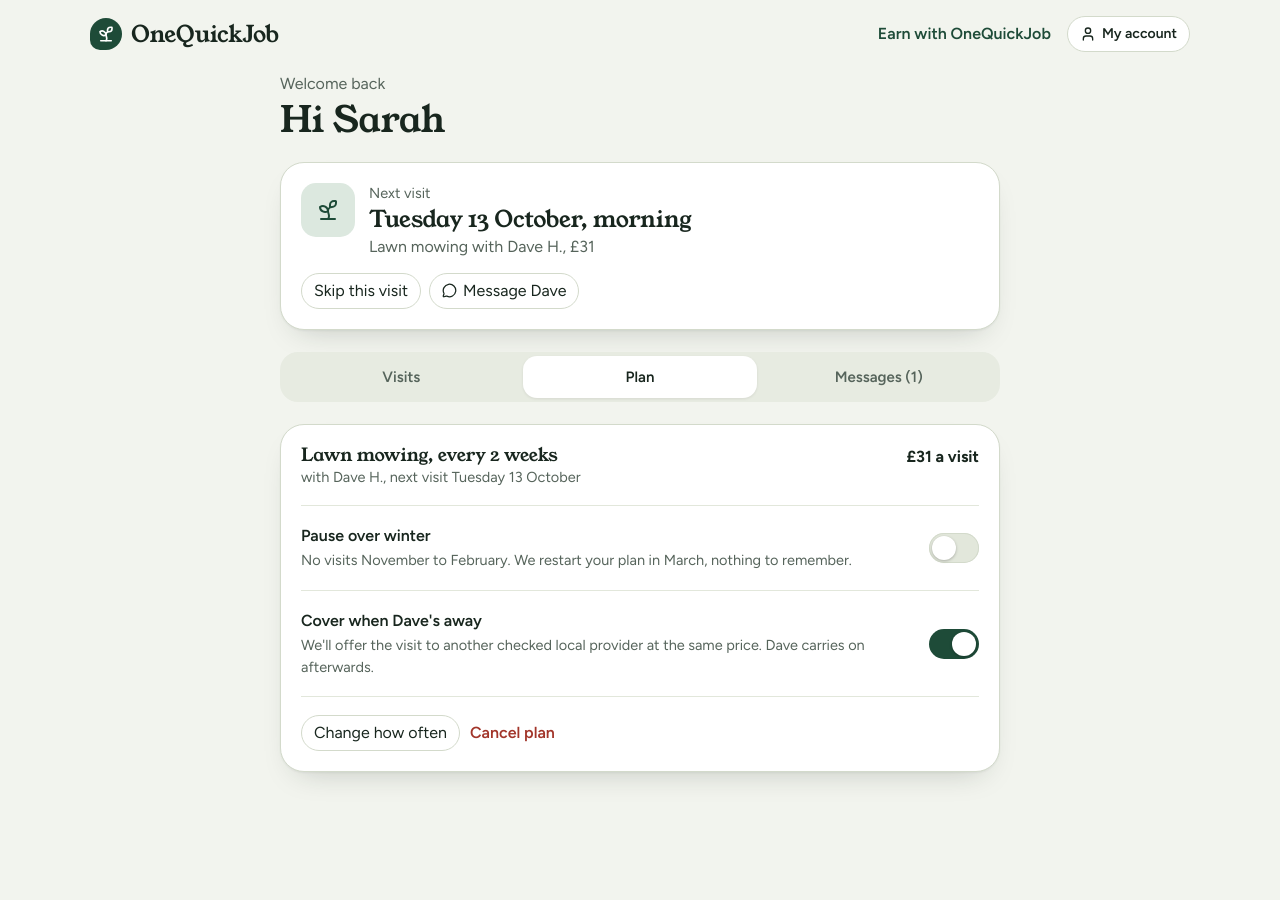
Test case: my account › shows the new price if it changed before asking (A10)
The width and height of the screenshot is (1280, 900).
Click the button "Change how often". click: (380, 734)
box: [301,716,460,752]
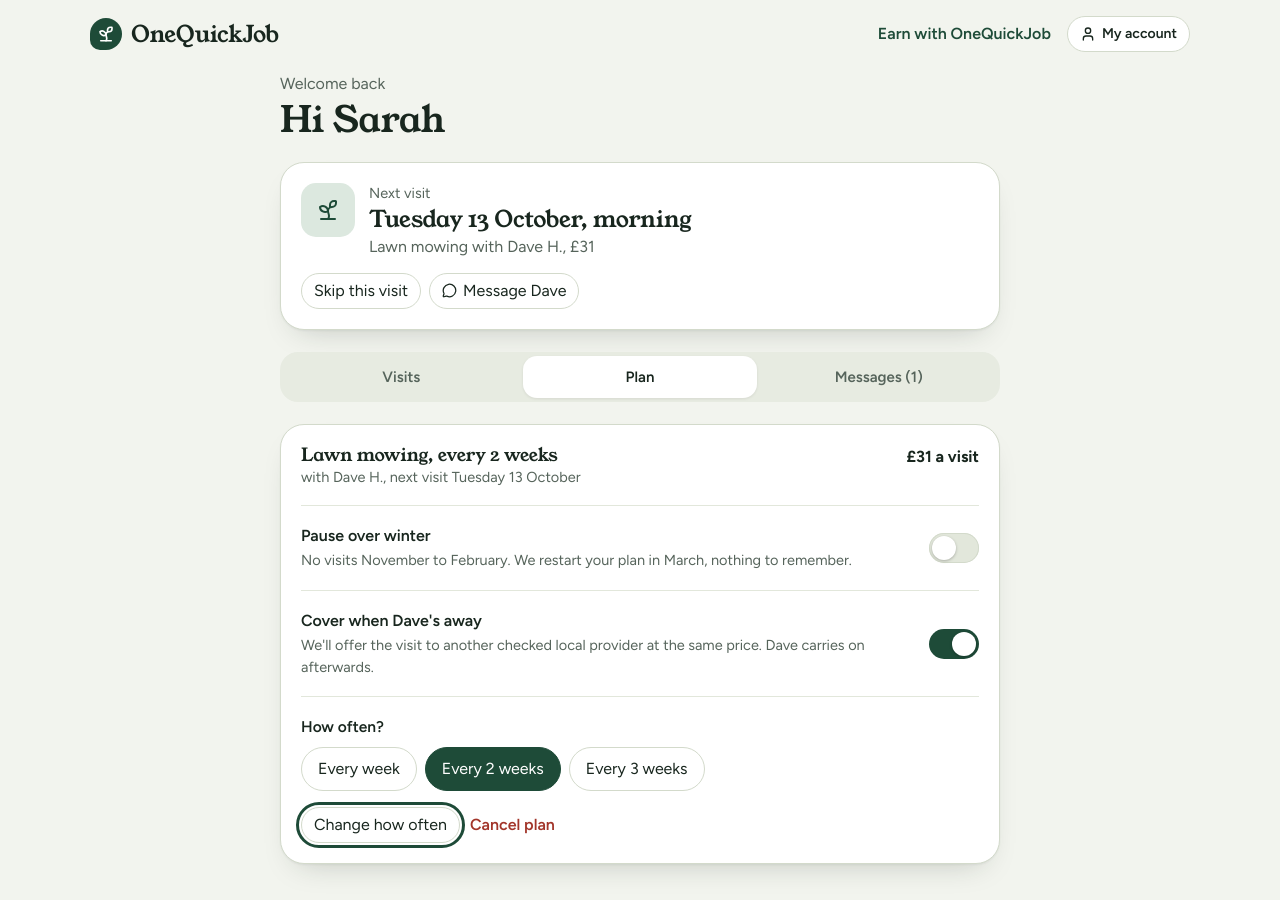
Click the button "Every week". click: (359, 769)
box: [301,747,417,791]
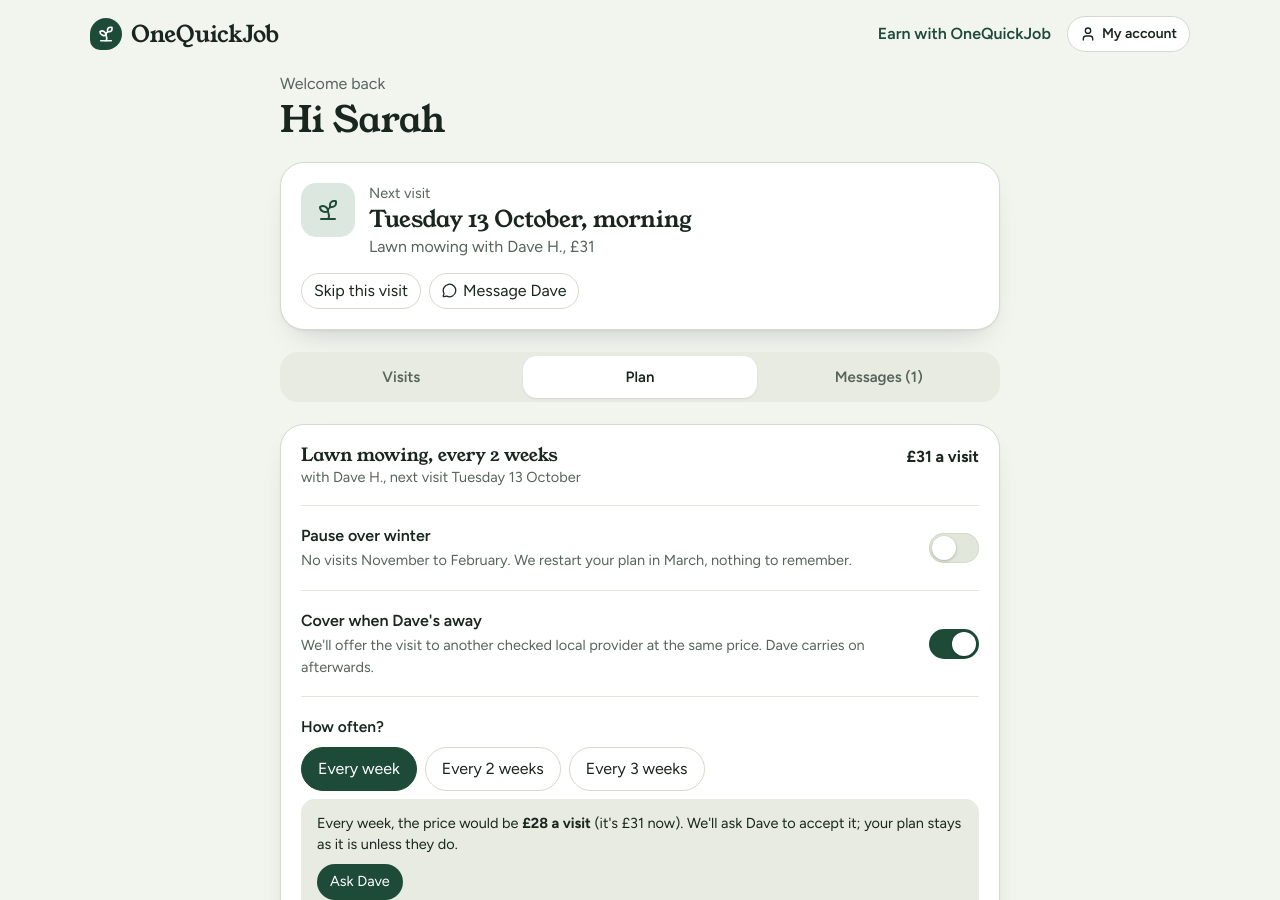
Click the button "Ask Dave". click: (360, 882)
box: [317,864,403,899]
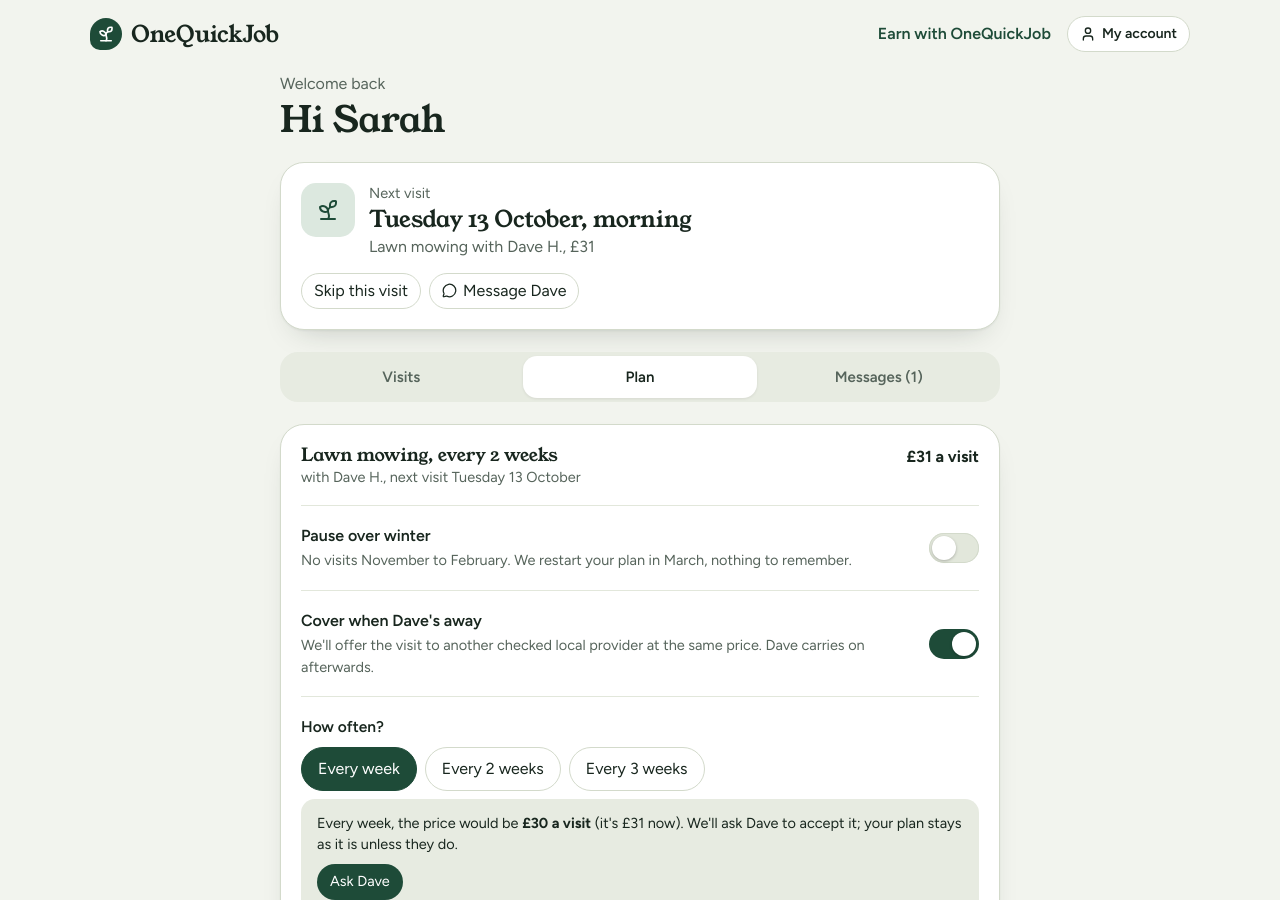
Now the text "the price would be" shows "the price would be £30 a visit", box [317,813,963,856]
